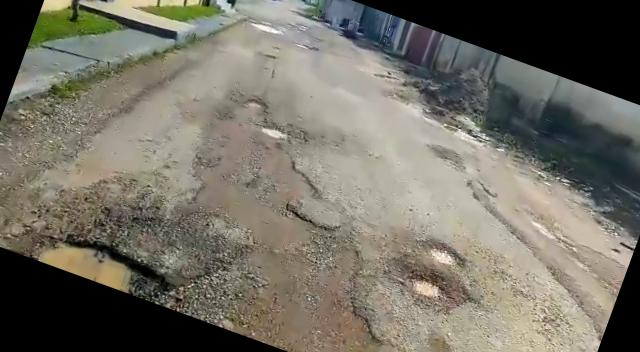pothole: (36, 226, 176, 307), (400, 268, 450, 306), (420, 235, 466, 272), (258, 124, 288, 142), (243, 96, 270, 115)
